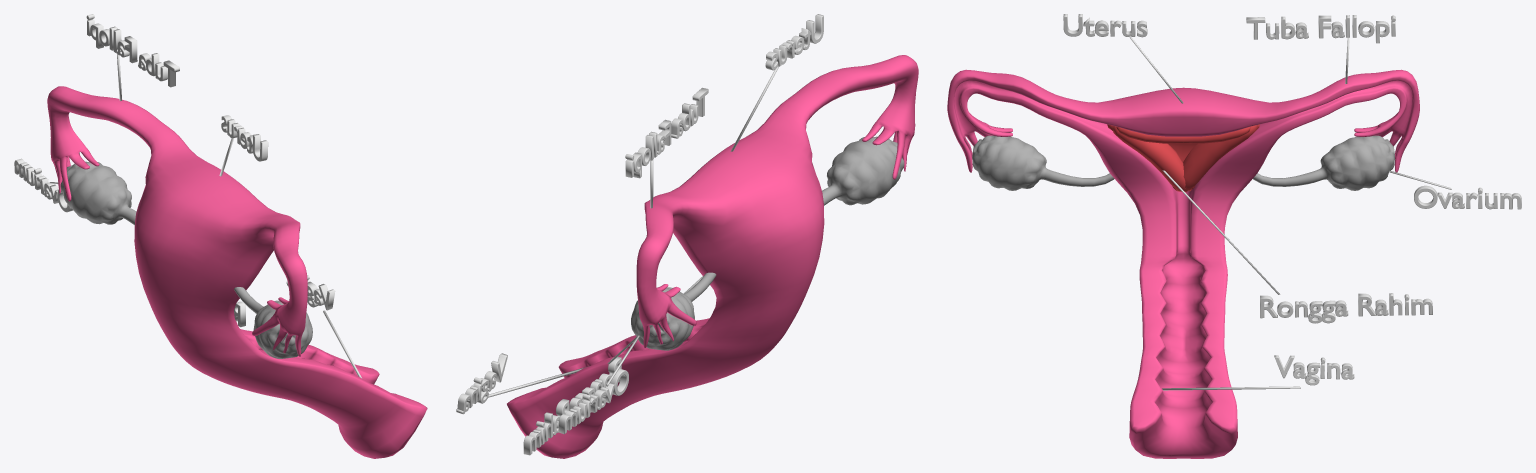
Rendered from fase3a.fbx.
3 renders of one model, left to right at view 1: azimuth 30°, elevation 25°; view 2: azimuth 150°, elevation 25°; view 3: azimuth 270°, elevation 25°, orthographic. The views are drawn at different scales.
Parts seen in each view (by area): view 1: Cube.001, Sphere, tuba fallopi, ovarium, uterus, vagina; view 2: Cube.001, Sphere, tuba fallopi, dinding rahim, ovarium, uterus, vagina; view 3: Cube.001, Sphere, dinding rahim, tuba fallopi, Cube.004, Cube.002, ovarium, vagina, uterus, Cube.005.
Boxes of the visible parts, <box> form: Cube.001: <box>47,86,427,458</box>; Sphere: <box>60,161,312,358</box>; tuba fallopi: <box>86,14,179,87</box>; ovarium: <box>14,158,73,212</box>; uterus: <box>221,115,268,161</box>; vagina: <box>286,275,335,310</box>; Cube.001: <box>507,55,918,458</box>; Sphere: <box>631,136,904,350</box>; tuba fallopi: <box>625,87,708,178</box>; dinding rahim: <box>523,357,621,455</box>; ovarium: <box>558,368,628,434</box>; uterus: <box>765,14,823,70</box>; vagina: <box>456,353,507,414</box>; Cube.001: <box>947,69,1419,458</box>; Sphere: <box>972,135,1394,190</box>; dinding rahim: <box>1260,293,1432,323</box>; tuba fallopi: <box>1246,15,1395,43</box>; Cube.004: <box>1183,125,1258,190</box>; Cube.002: <box>1113,126,1187,192</box>; ovarium: <box>1414,185,1521,209</box>; vagina: <box>1274,355,1354,385</box>; uterus: <box>1063,14,1147,37</box>; Cube.005: <box>1116,126,1250,143</box>.
Bounding box in the file's own units: 74.77 × 108 × 152.
Materials: 10 (3 with a texture image).
